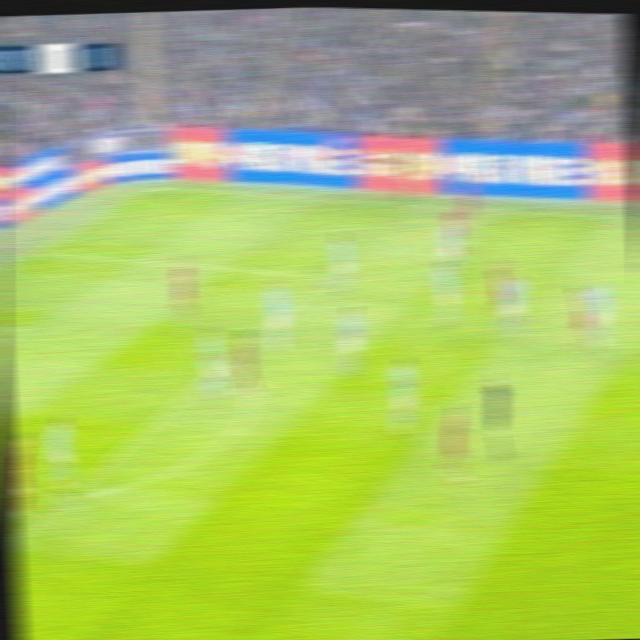bigarea_top_inner: (309, 263, 336, 290)
bigarea_top_outter: (23, 238, 51, 264)
bottom_arc_area_intersection: (48, 481, 86, 512)
corner: (137, 176, 167, 195)
smallarea_top_inner: (5, 317, 35, 343)
top_arc_area_intersection: (209, 350, 235, 376)
